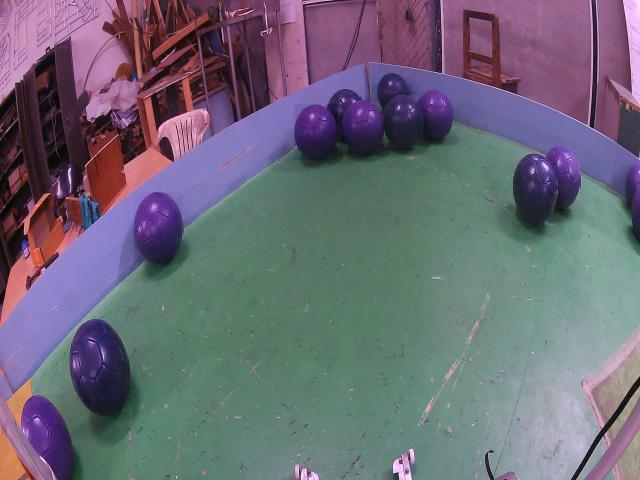jambhalya: (21, 395, 74, 480), (135, 192, 183, 263), (341, 100, 384, 155), (295, 105, 337, 160), (547, 146, 580, 209), (418, 90, 452, 140)
kaalyya: (70, 320, 130, 415), (514, 154, 559, 225), (384, 95, 423, 148), (327, 88, 360, 140), (377, 74, 409, 108)
